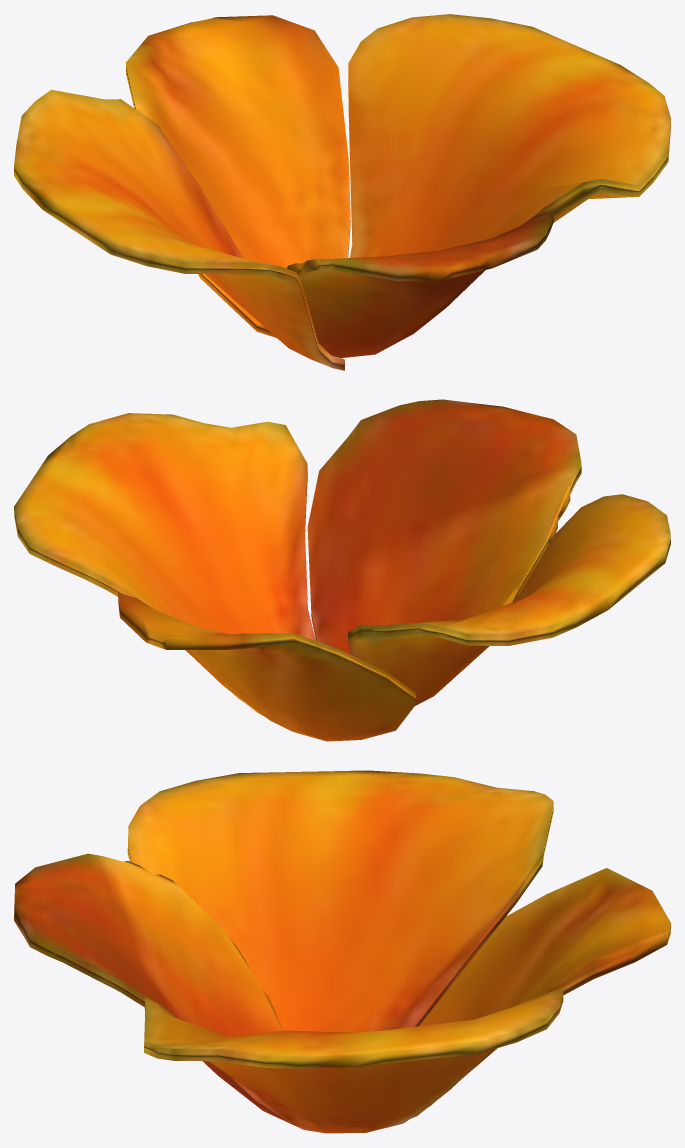
File: poppy_purple.glb
3 renders of one model, top to bottom at view 1: azimuth 30°, elevation 25°; view 2: azimuth 150°, elevation 25°; view 3: azimuth 270°, elevation 25°, orthographic. The views are drawn at different scales.
Visible parts, largest first — view 1: poppy_purple; view 2: poppy_purple; view 3: poppy_purple.
Boxes of the visible parts, x1,y1,x2,y2 form: poppy_purple: (14,14,670,370); poppy_purple: (14,399,670,741); poppy_purple: (14,770,670,1133).
Size of the model in its own units: 0.0893 by 0.0331 by 0.0864.
1 material, 1 textured.
